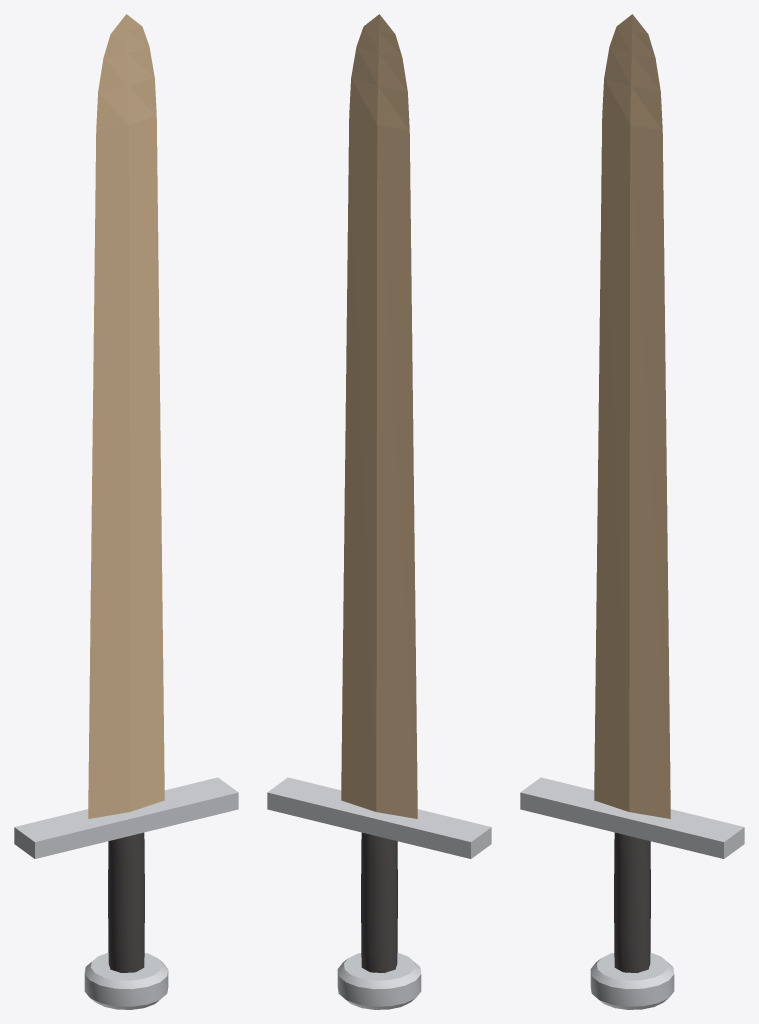
File: asset.glb
3 views of the same model, side by side, from view 1: azimuth 30°, elevation 25°; view 2: azimuth 150°, elevation 25°; view 3: azimuth 330°, elevation 25° (orthographic).
Visible parts, largest first — view 1: blade, guard, grip, pommel; view 2: blade, guard, grip, pommel; view 3: blade, guard, grip, pommel.
Boxes of the visible parts, x1=… form: blade: x1=88, y1=14, x2=164, y2=818; guard: x1=14, y1=777, x2=238, y2=858; grip: x1=108, y1=832, x2=144, y2=972; pommel: x1=84, y1=953, x2=168, y2=1009; blade: x1=341, y1=14, x2=417, y2=818; guard: x1=267, y1=777, x2=491, y2=858; grip: x1=361, y1=832, x2=397, y2=972; pommel: x1=337, y1=953, x2=421, y2=1009; blade: x1=594, y1=14, x2=670, y2=818; guard: x1=520, y1=777, x2=744, y2=858; grip: x1=614, y1=832, x2=650, y2=972; pommel: x1=590, y1=953, x2=674, y2=1009.
Size of the model in its own units: 0.1462 by 0.6726 by 0.0525.
